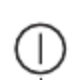start: (4, 15, 78, 76)
